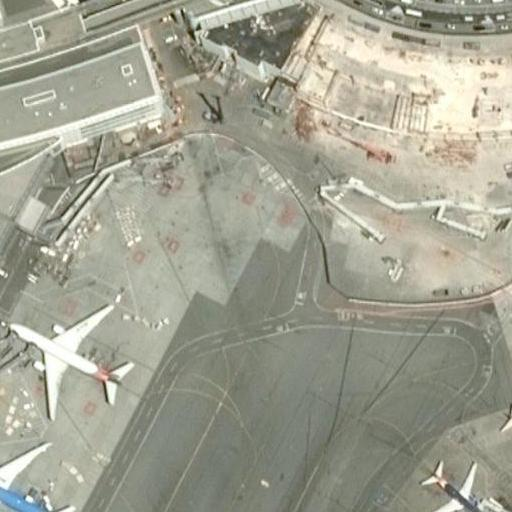Aircraft: (9, 309, 148, 419), (0, 435, 78, 512)
